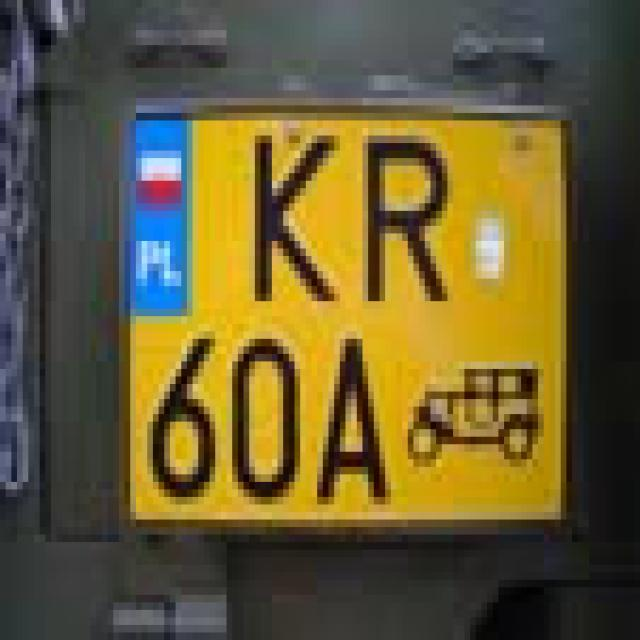pl_license_plate: (119, 98, 555, 512)
